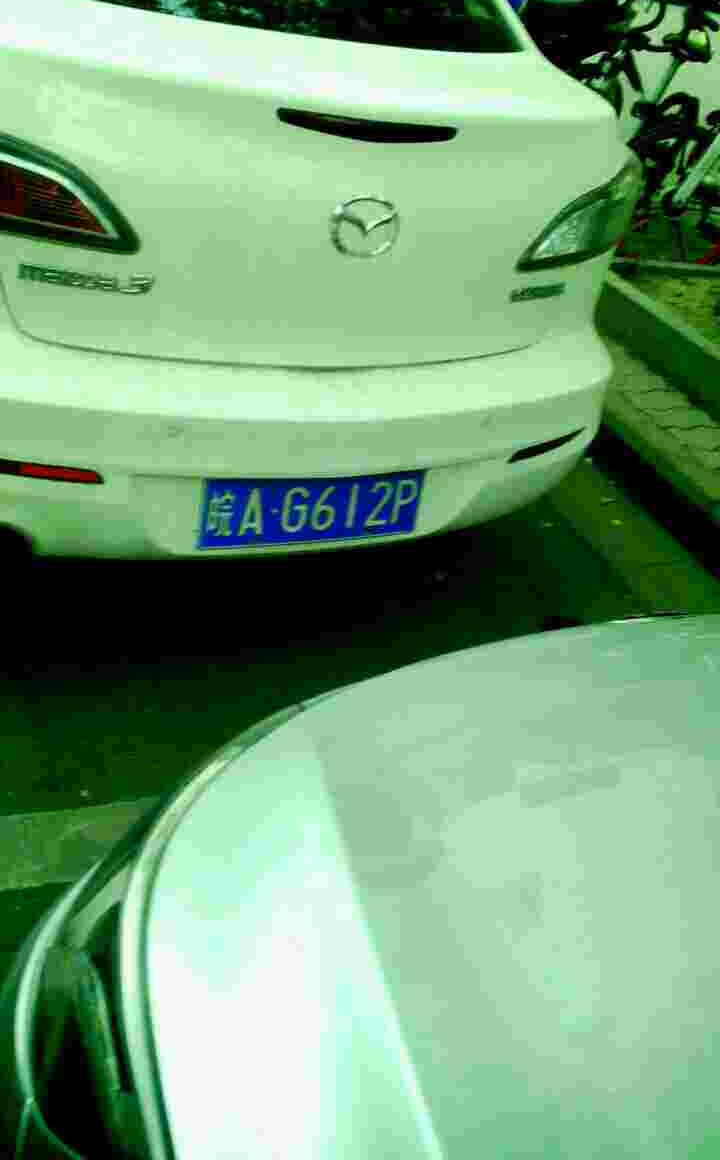license_plate: (206, 466, 433, 555)
